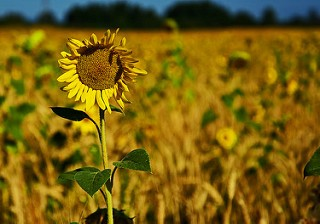flower: (55, 31, 150, 113)
